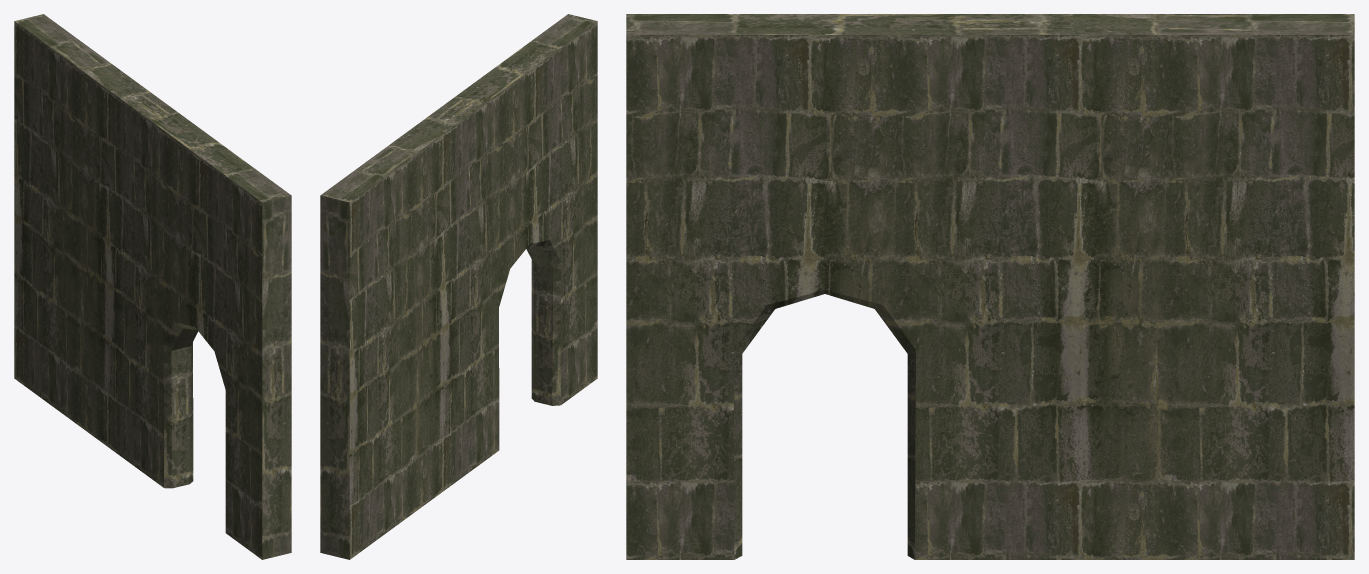
The model's file is Wall_Doorway_L.fbx.
3 renders of one model, left to right at view 1: azimuth 30°, elevation 25°; view 2: azimuth 150°, elevation 25°; view 3: azimuth 270°, elevation 25°, orthographic. The views are drawn at different scales.
Visible parts, largest first — view 1: Doorway_L; view 2: Doorway_L; view 3: Doorway_L.
Boxes of the visible parts, <box> form: Doorway_L: <box>14,14,291,559</box>; Doorway_L: <box>320,14,597,559</box>; Doorway_L: <box>626,14,1354,559</box>.
Size of the model in its own units: 51 by 595 by 748.
